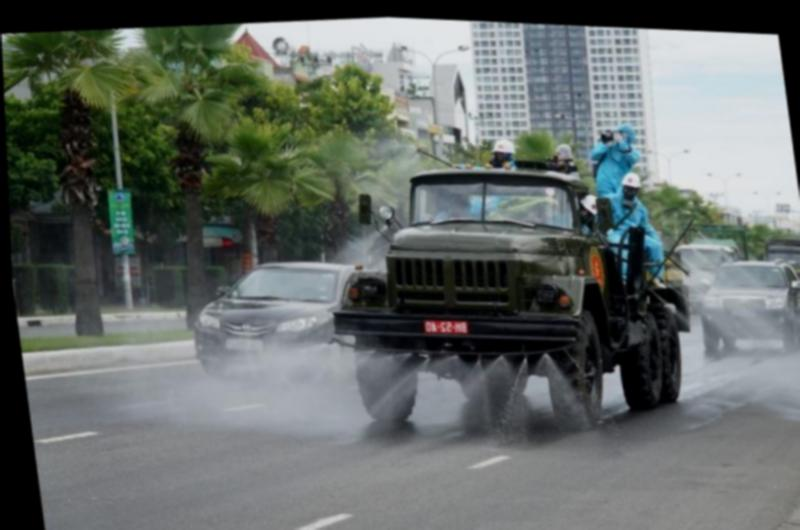License_Plate: (424, 317, 470, 335), (222, 336, 262, 356)
